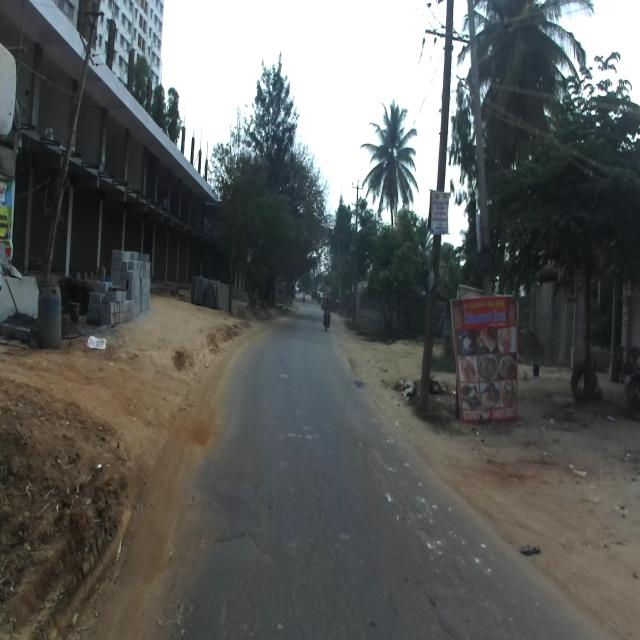electric pole ahead at: (423, 0, 458, 416)
